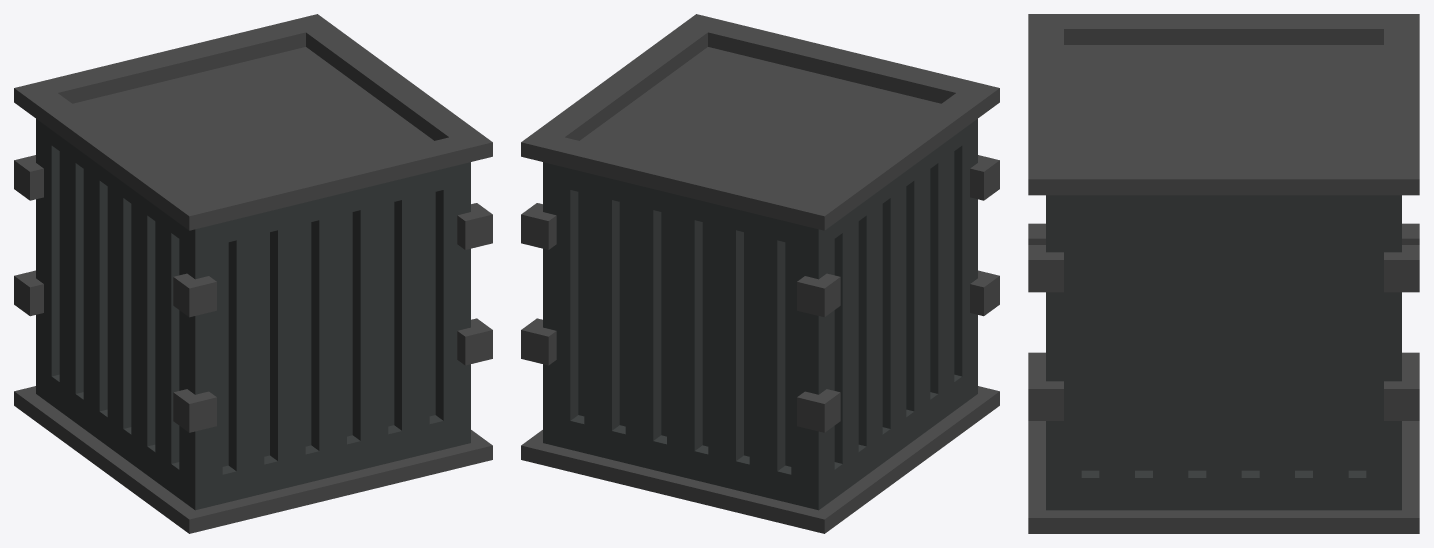
The model's file is crate.obj.
The picture shows the model from 3 angles, left to right: view 1: azimuth 30°, elevation 25°; view 2: azimuth 150°, elevation 25°; view 3: azimuth 270°, elevation 25°; orthographic projection. The views are drawn at different scales.
Size of the model in its own units: 2.2 by 2.2 by 2.2.
Materials: 1 (1 with a texture image).
